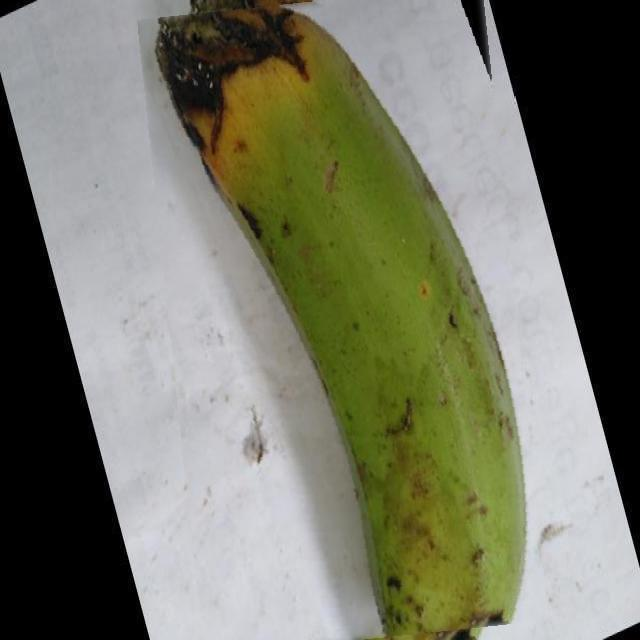Verde: (153, 0, 532, 640)
